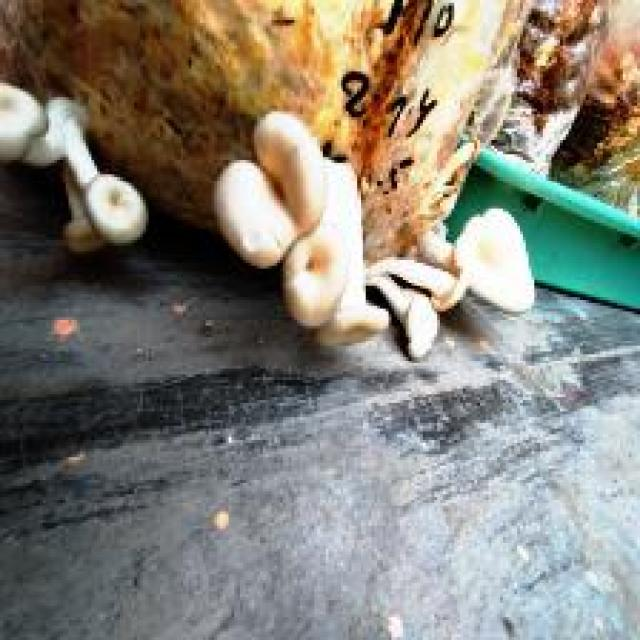chanterelle: (0, 0, 637, 360)
